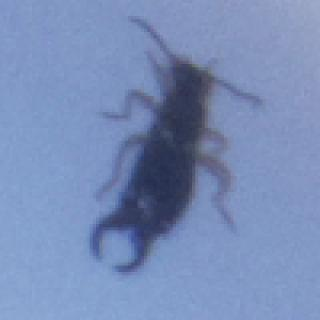earwig: (86, 12, 268, 280)
